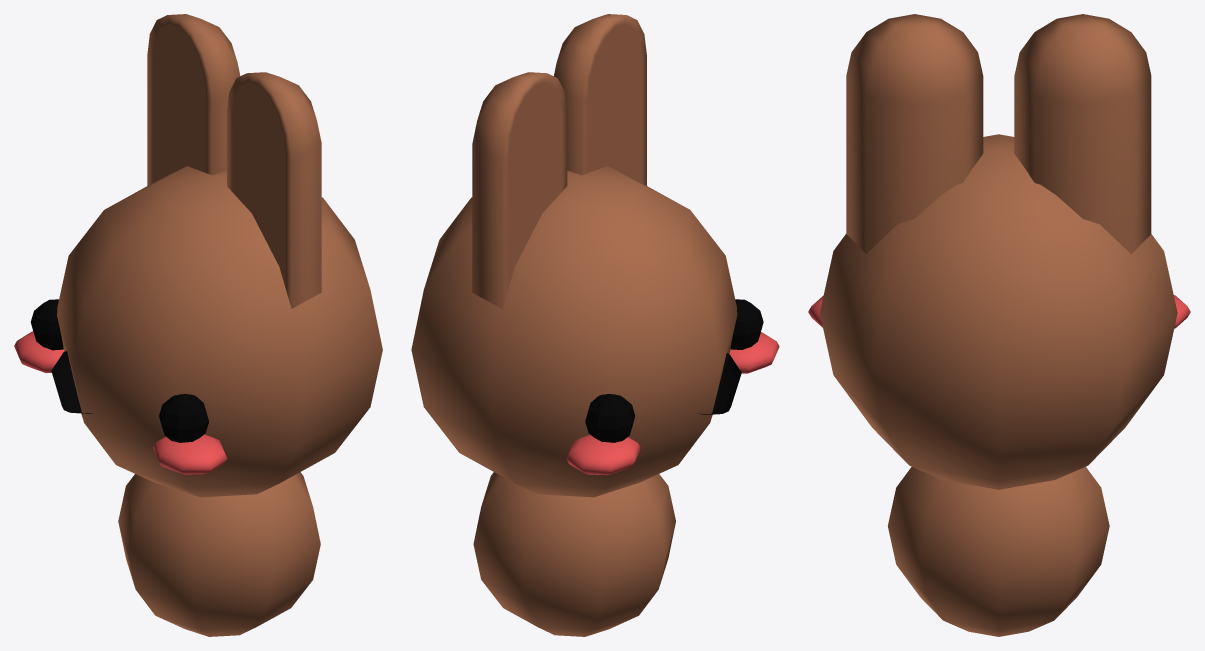
File: HappyBun_Brown.fbx
3 views of the same model, side by side, from view 1: azimuth 30°, elevation 25°; view 2: azimuth 150°, elevation 25°; view 3: azimuth 270°, elevation 25° (orthographic). The views are drawn at different scales.
Visible parts, largest first — view 1: HappyBun_Brown; view 2: HappyBun_Brown; view 3: HappyBun_Brown.
Part boxes in pixels (left/top/right/bottom): HappyBun_Brown: left=14, top=14, right=382, bottom=636; HappyBun_Brown: left=411, top=14, right=779, bottom=636; HappyBun_Brown: left=808, top=14, right=1190, bottom=636.
Bounding box in the file's own units: 105 × 191 × 108.
